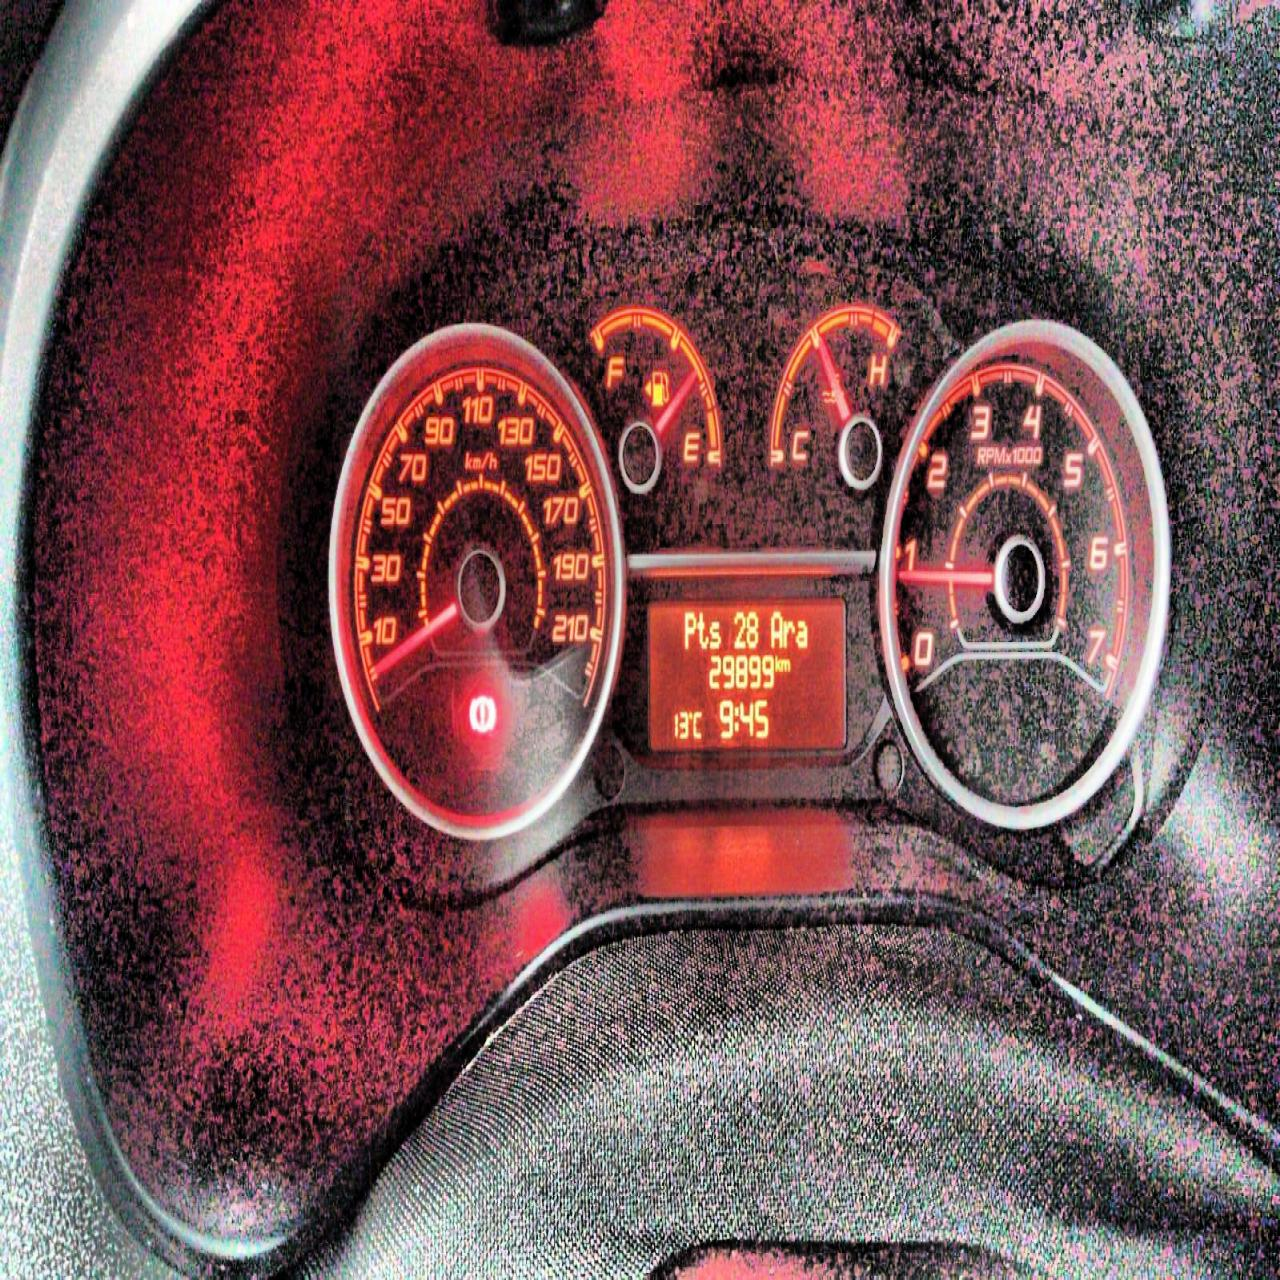1: (673, 708, 678, 740)
2: (733, 608, 745, 651), (708, 652, 722, 689)
3: (679, 708, 688, 740)
4: (738, 699, 753, 738)
5: (754, 697, 769, 740)
8: (747, 608, 760, 648), (735, 651, 747, 688)
9: (719, 697, 733, 740), (749, 651, 762, 688), (761, 652, 774, 688), (722, 651, 734, 689)
X: (682, 607, 695, 649), (769, 607, 782, 649), (695, 610, 708, 651), (782, 617, 795, 648), (709, 617, 721, 648), (796, 617, 806, 649), (693, 708, 703, 740), (733, 702, 738, 734), (782, 656, 791, 672), (775, 652, 781, 672)
odometer: (647, 597, 844, 751)
